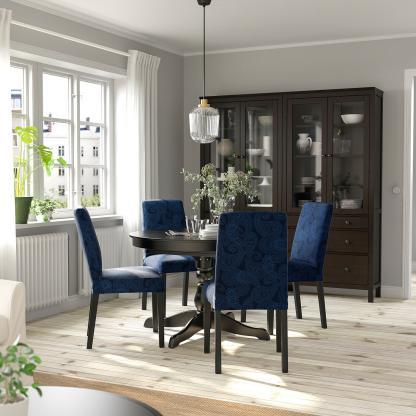chair: (198, 209, 294, 373), (67, 199, 154, 344), (144, 199, 199, 307), (286, 200, 332, 326)
light: (162, 0, 234, 154)
table: (130, 208, 218, 356), (0, 378, 180, 416)
